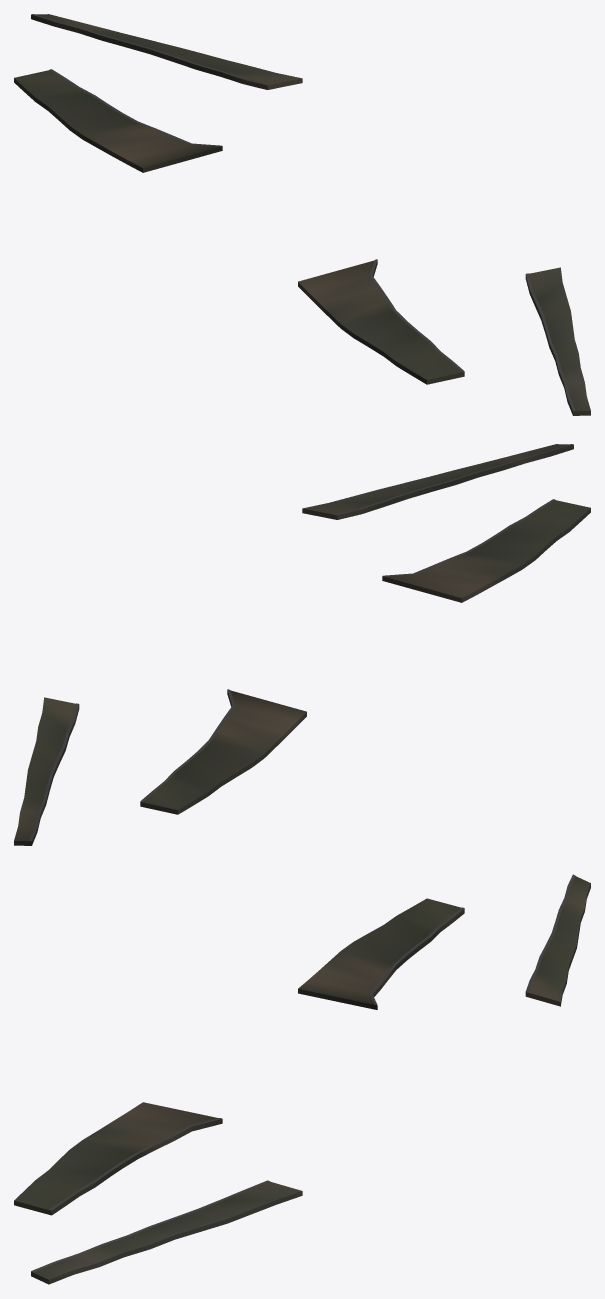
Rendered from fh_mech_attacker_1.glb.
3 renders of one model, top to bottom at view 1: azimuth 30°, elevation 25°; view 2: azimuth 150°, elevation 25°; view 3: azimuth 330°, elevation 25°, orthographic.
Parts seen in each view (by area): view 1: flap_r, flap_l, slat_r, slat_l; view 2: flap_l, flap_r, slat_l, slat_r; view 3: flap_r, flap_l, slat_r, slat_l.
Part boxes in pixels (x1,y1,x2,y2): flap_r: (298, 259, 464, 384); flap_l: (14, 69, 222, 172); slat_r: (525, 267, 590, 415); slat_l: (31, 14, 302, 89); flap_l: (140, 689, 306, 814); flap_r: (382, 499, 590, 602); slat_l: (14, 697, 79, 845); slat_r: (302, 444, 573, 519); flap_r: (14, 1102, 222, 1215); flap_l: (298, 898, 464, 1009); slat_r: (31, 1180, 302, 1284); slat_l: (525, 874, 590, 1006).
Size of the model in its own units: 0.197 by 0.0168 by 0.84.
